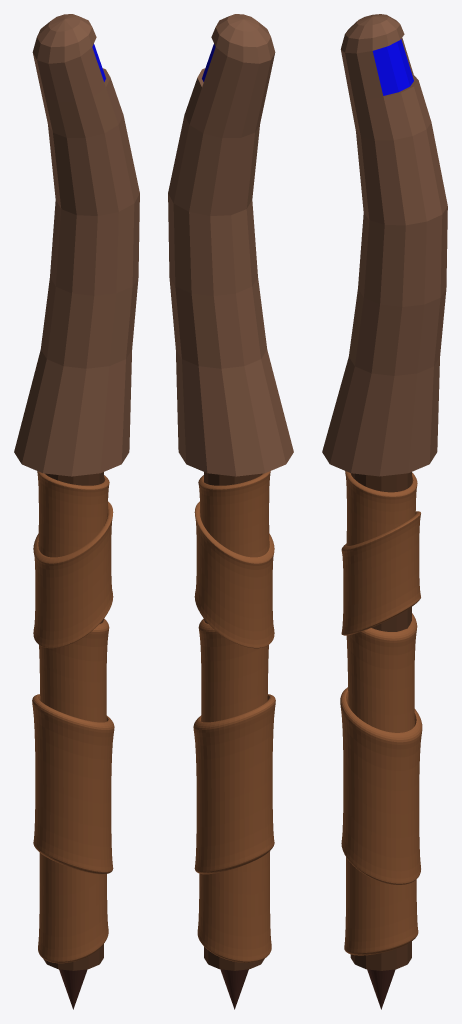
The model's file is Wand 342.glb.
3 views of the same model, side by side, from view 1: azimuth 30°, elevation 25°; view 2: azimuth 150°, elevation 25°; view 3: azimuth 330°, elevation 25° (orthographic).
Visible parts, largest first — view 1: GeneratedWand; view 2: GeneratedWand; view 3: GeneratedWand.
Part boxes in pixels (x1=…): GeneratedWand: x1=14, y1=14, x2=139, y2=1009; GeneratedWand: x1=168, y1=14, x2=293, y2=1009; GeneratedWand: x1=322, y1=14, x2=447, y2=1009.
Size of the model in its own units: 0.0644 by 0.5424 by 0.0572.
